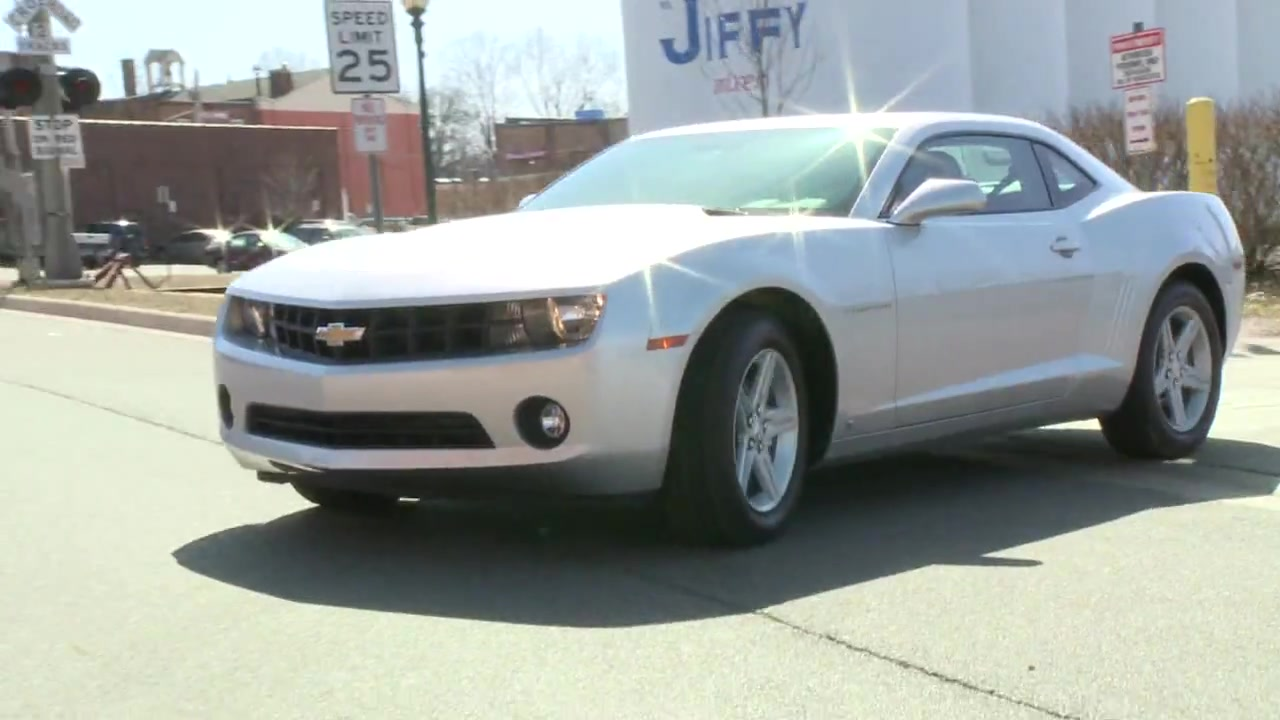car: (212, 104, 1253, 561)
